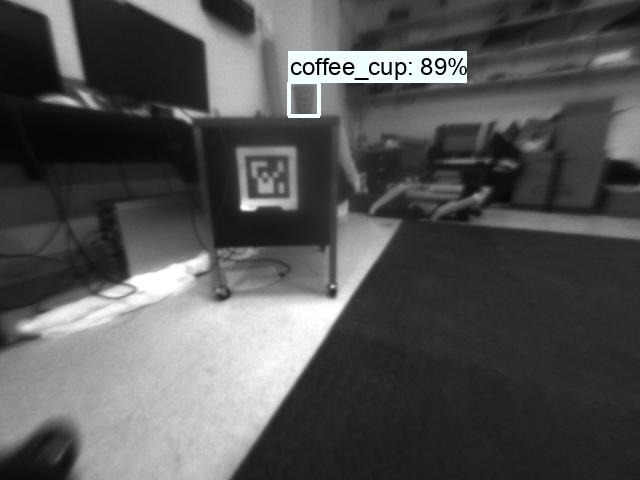coffee_cup: (289, 83, 317, 117)
